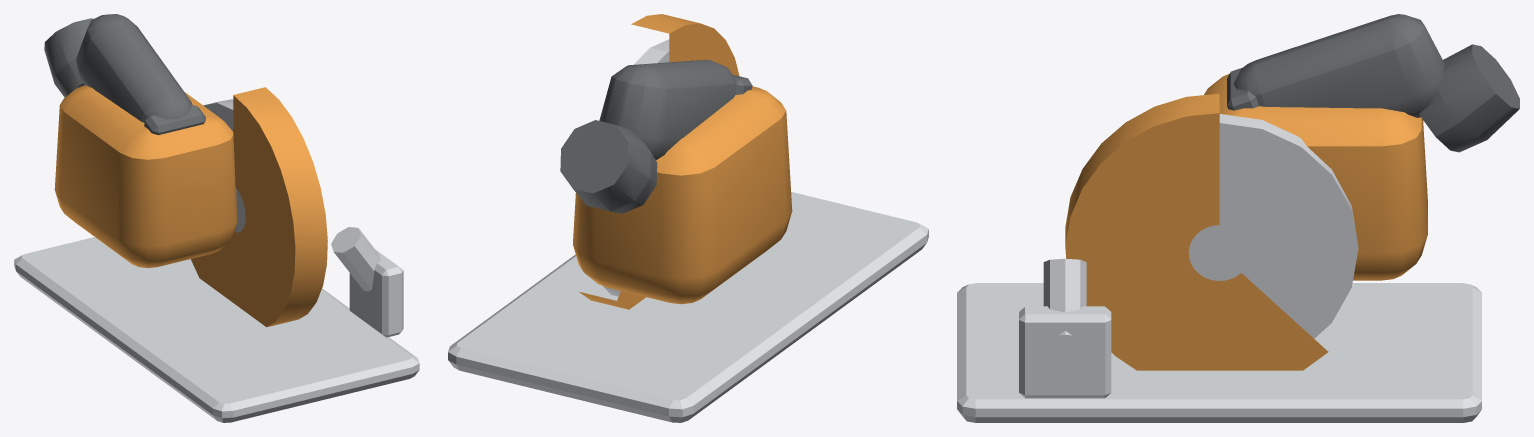
The picture shows the model from 3 angles, left to right: view 1: azimuth 30°, elevation 25°; view 2: azimuth 150°, elevation 25°; view 3: azimuth 270°, elevation 25°; orthographic projection. The views are drawn at different scales.
Visible parts, largest first — view 1: circular-saw; view 2: circular-saw; view 3: circular-saw.
Part boxes in pixels (x1,y1,x2,y2): circular-saw: (14, 14, 419, 422); circular-saw: (448, 14, 928, 422); circular-saw: (957, 14, 1519, 422).
Size of the model in its own units: 0.1965 by 0.2326 by 0.3645.
